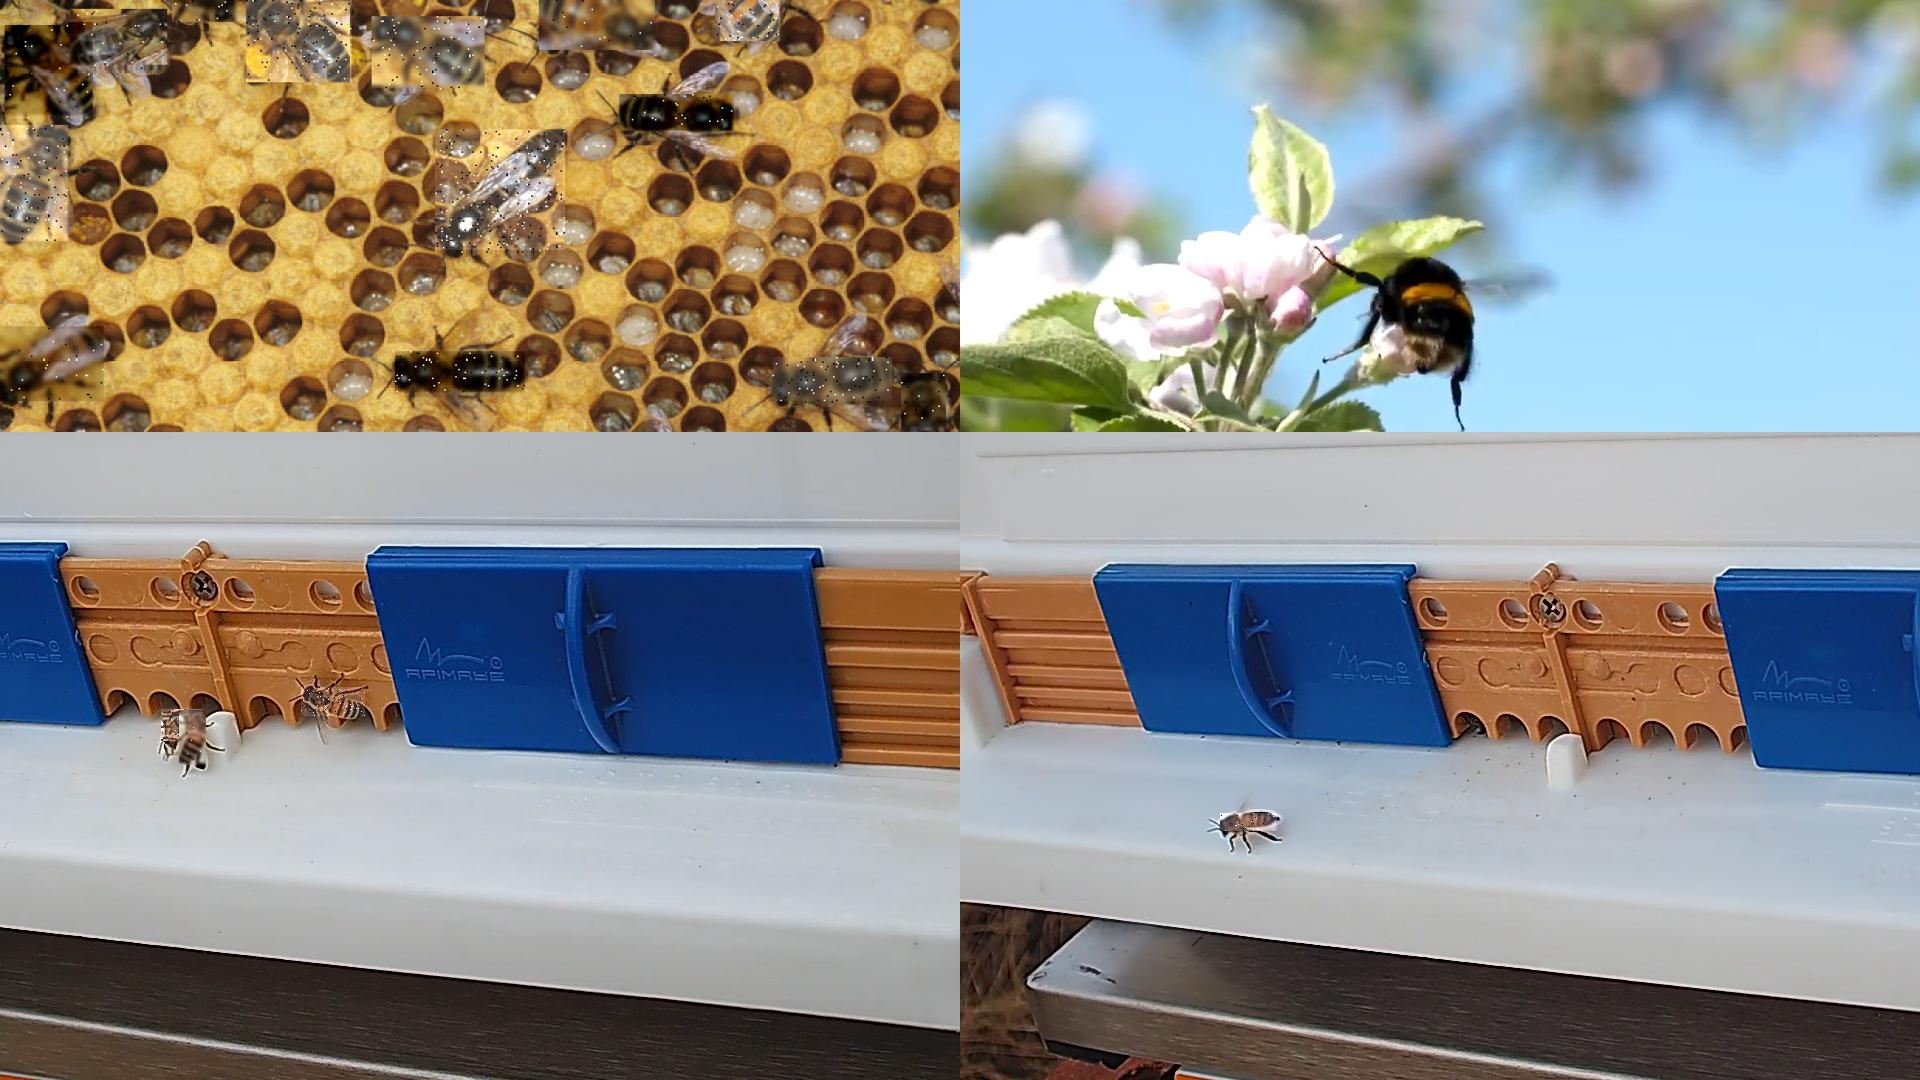bee: (247, 0, 353, 84), (372, 17, 487, 92), (0, 125, 70, 244), (5, 26, 94, 120), (0, 326, 105, 404), (70, 9, 169, 71), (538, 0, 657, 51), (773, 357, 893, 405), (396, 352, 526, 394), (621, 95, 740, 132), (715, 0, 782, 42), (901, 375, 948, 431), (301, 687, 367, 717), (173, 0, 243, 24), (179, 711, 207, 767), (161, 709, 204, 742), (1221, 814, 1280, 832)
queen: (435, 131, 567, 256)
